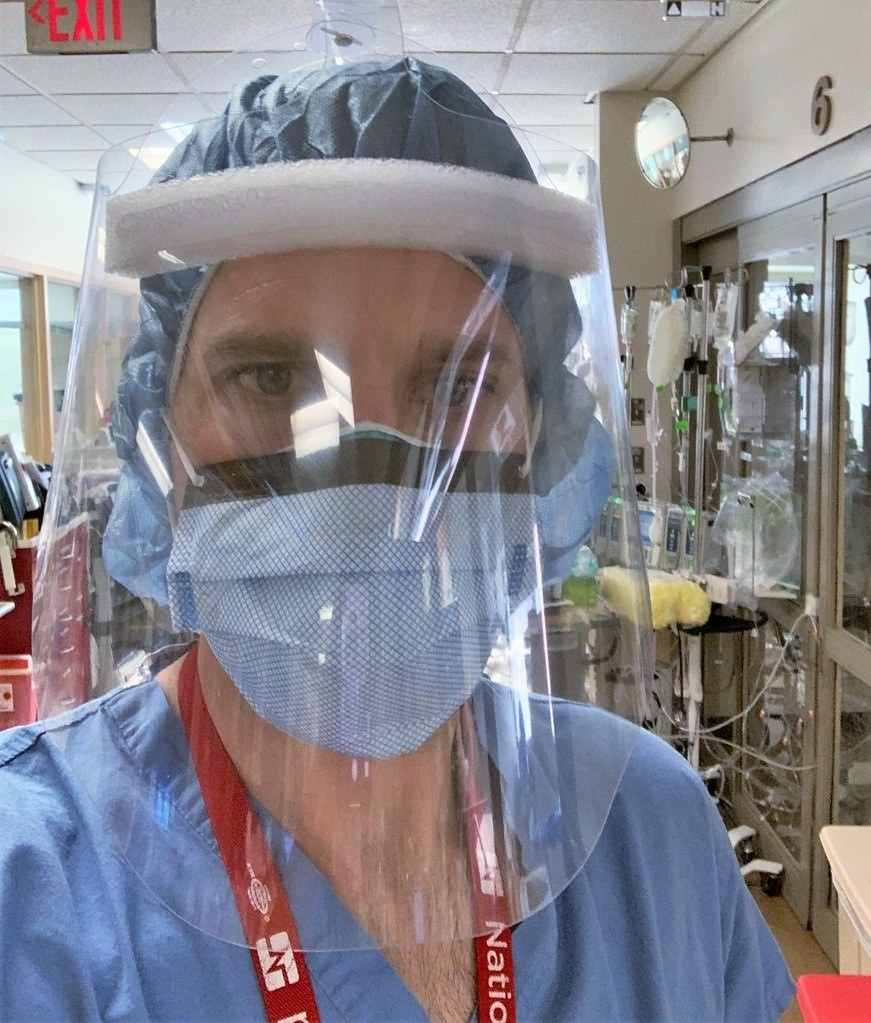face_with_mask: (110, 65, 610, 765)
